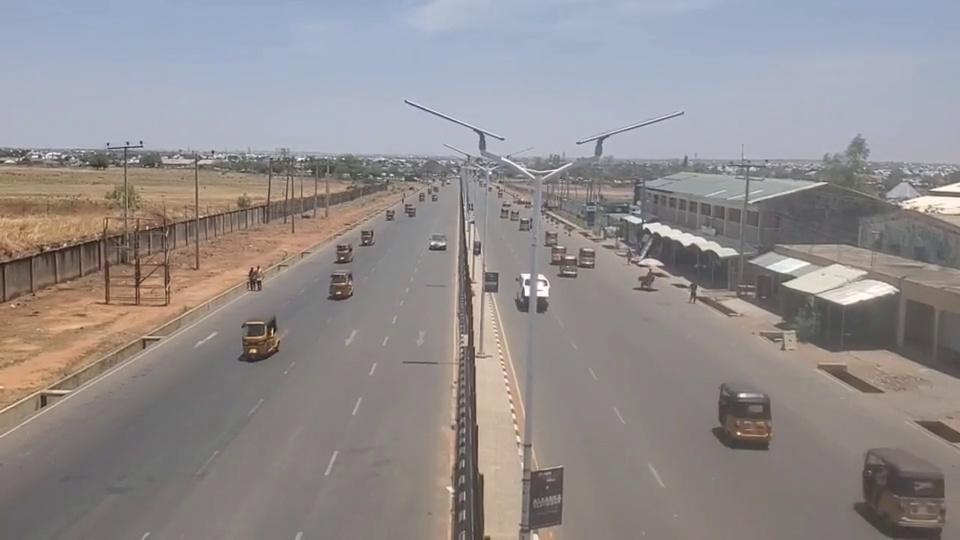bus: (517, 272, 550, 311)
car: (429, 234, 448, 250)
keke: (861, 446, 947, 536), (717, 381, 772, 448), (240, 315, 280, 360), (329, 272, 354, 300), (336, 242, 354, 261), (360, 229, 375, 245), (519, 217, 532, 231), (405, 204, 416, 216), (386, 209, 394, 220)
